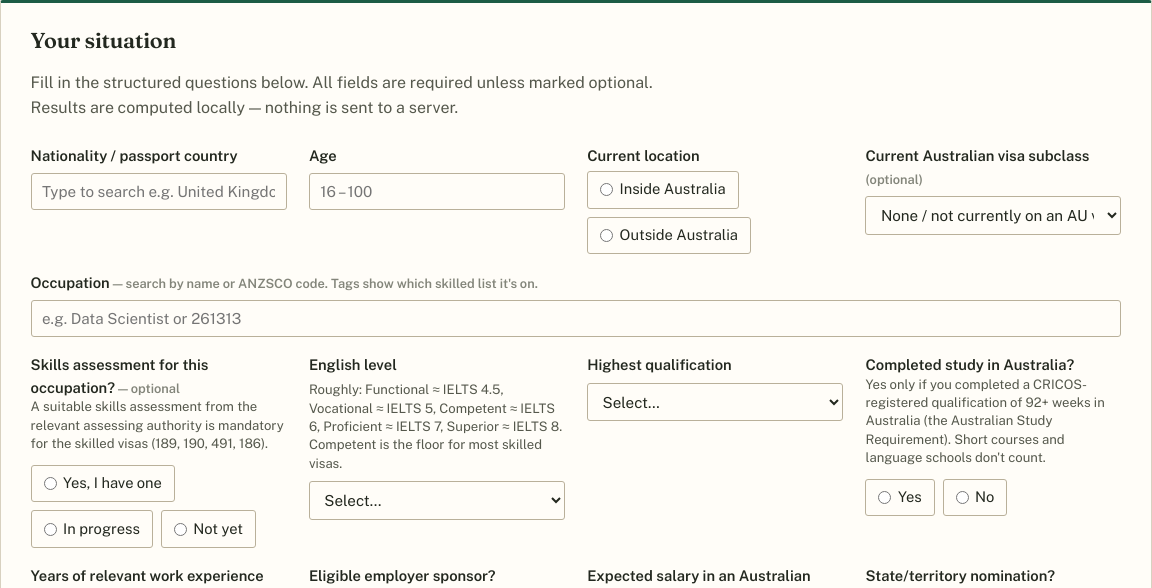
WizardForm › shows an unsupported-occupation note but does not block
Type "Astronaut" into the dropdown labelled "Occupation" at (576, 318), box [31,300,1121,337]
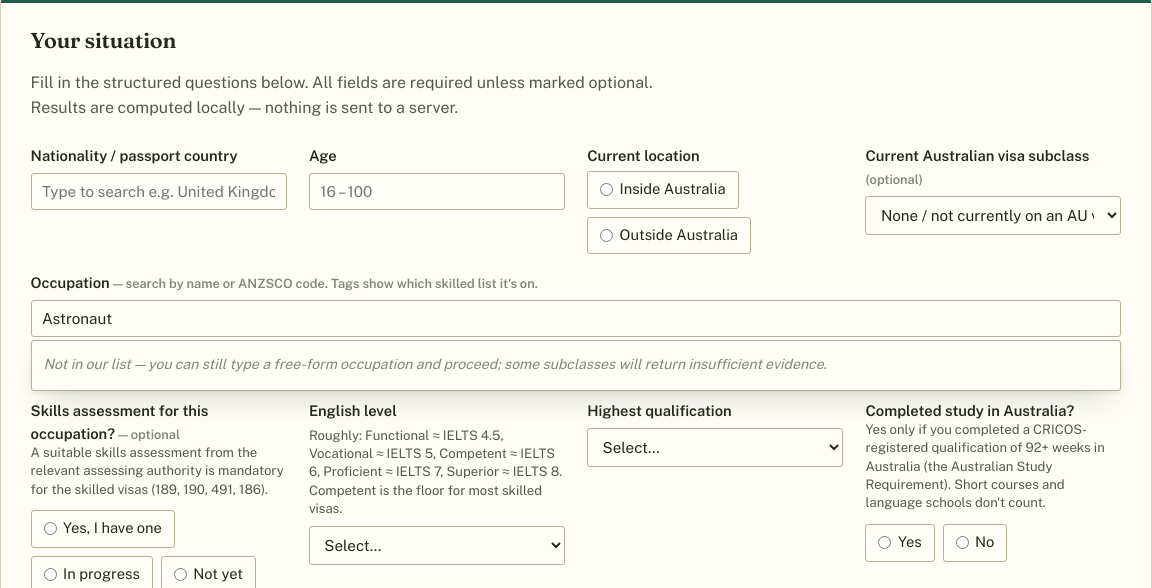
Expected: the text "isn't in our supported list" is shown, [41,356,841,372]
